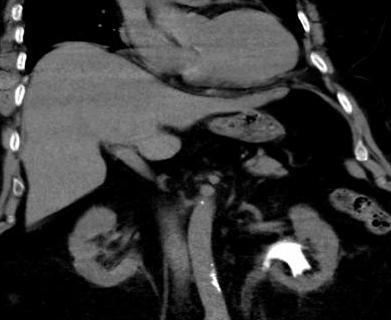Tas_Var: (266, 232, 316, 282), (258, 256, 274, 274)
